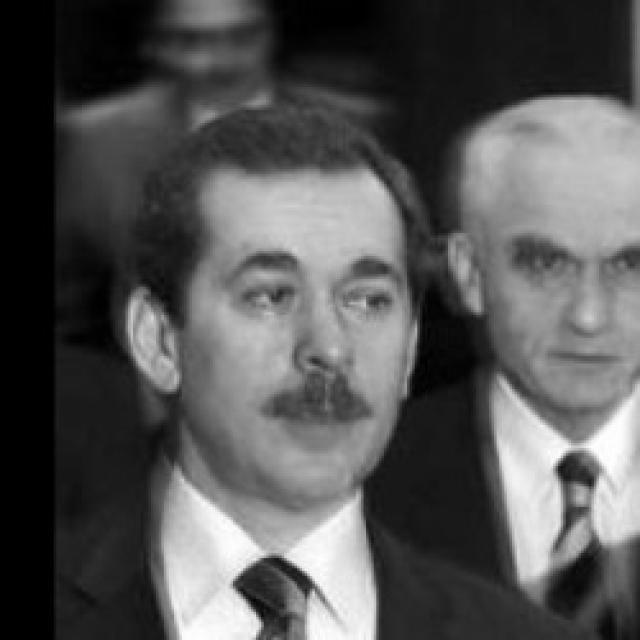real: (157, 118, 410, 508), (476, 105, 640, 412), (234, 265, 402, 327), (509, 237, 640, 300)
